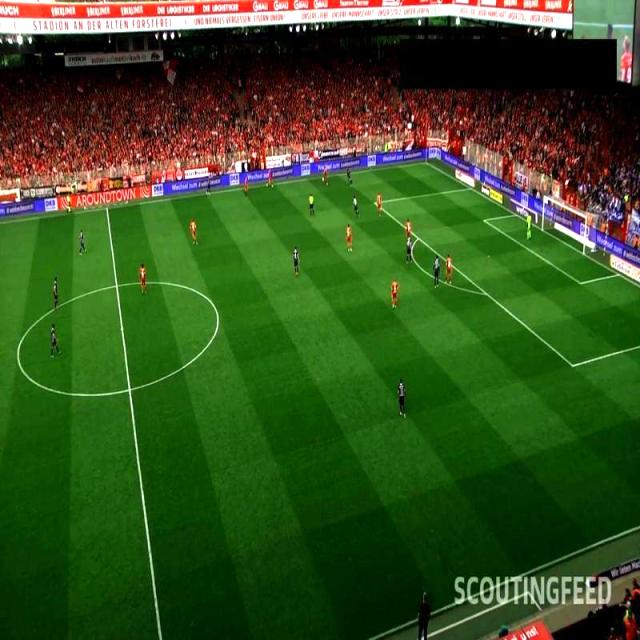bigarea_bottom_inner: (568, 361, 578, 372)
bigarea_top_inner: (370, 198, 380, 208)
bigarea_top_outter: (466, 182, 477, 193)
bottom_arc_area_intersection: (482, 288, 492, 299)
corner: (421, 158, 432, 168)
halfcircle_bottom: (124, 384, 135, 394)
halfcircle_top: (111, 280, 122, 290)
midline_top_intersection: (102, 202, 113, 213)
smallarea_bottom_inner: (575, 278, 586, 288)
smallarea_bottom_outter: (614, 270, 624, 280)
smallarea_top_inner: (478, 215, 489, 226)
smallarea_top_outter: (510, 210, 521, 220)
top_arc_area_intersection: (412, 232, 423, 244)
